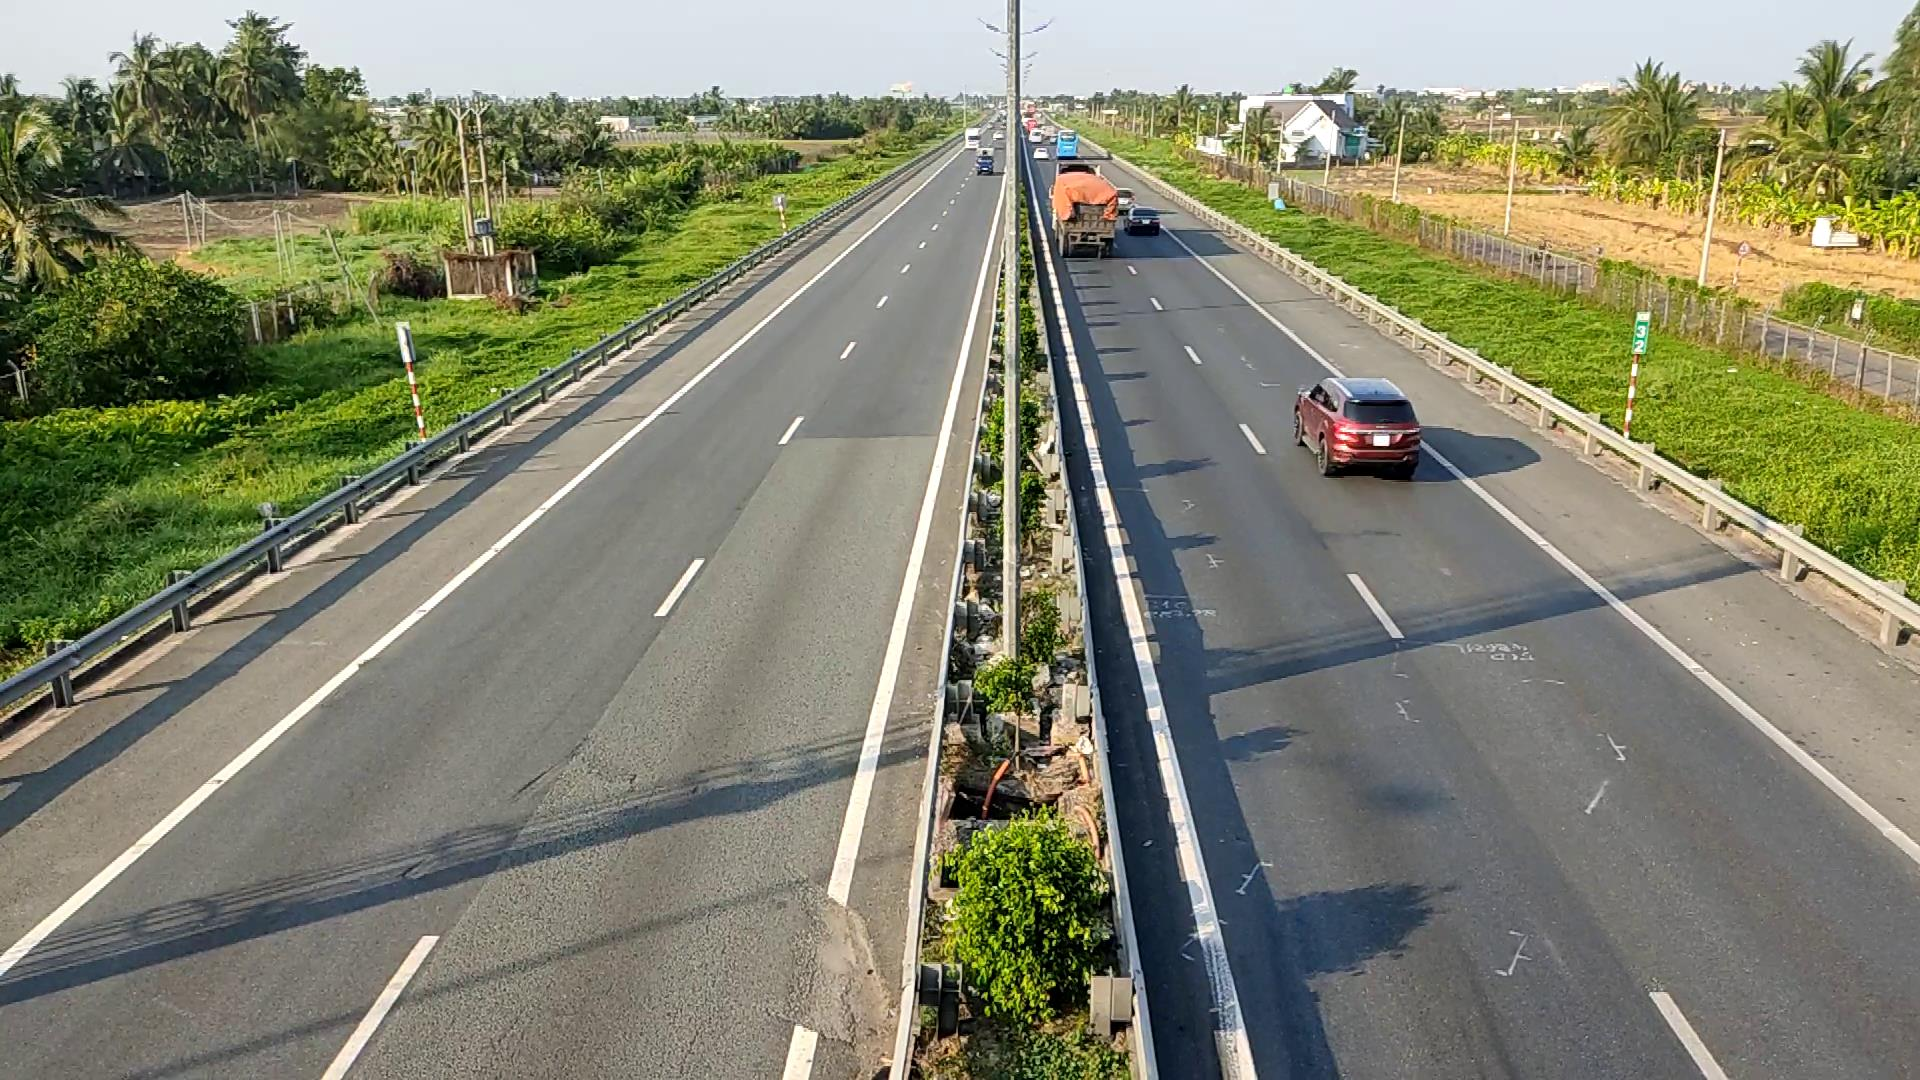car: (1294, 375, 1423, 477), (1126, 204, 1162, 235)
truck: (1051, 167, 1117, 257)
